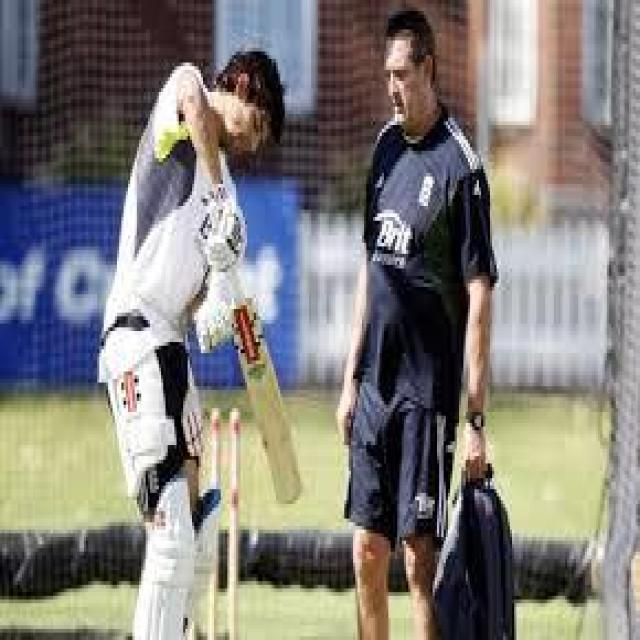bat: (234, 314, 302, 506)
toe: (275, 471, 304, 508)
